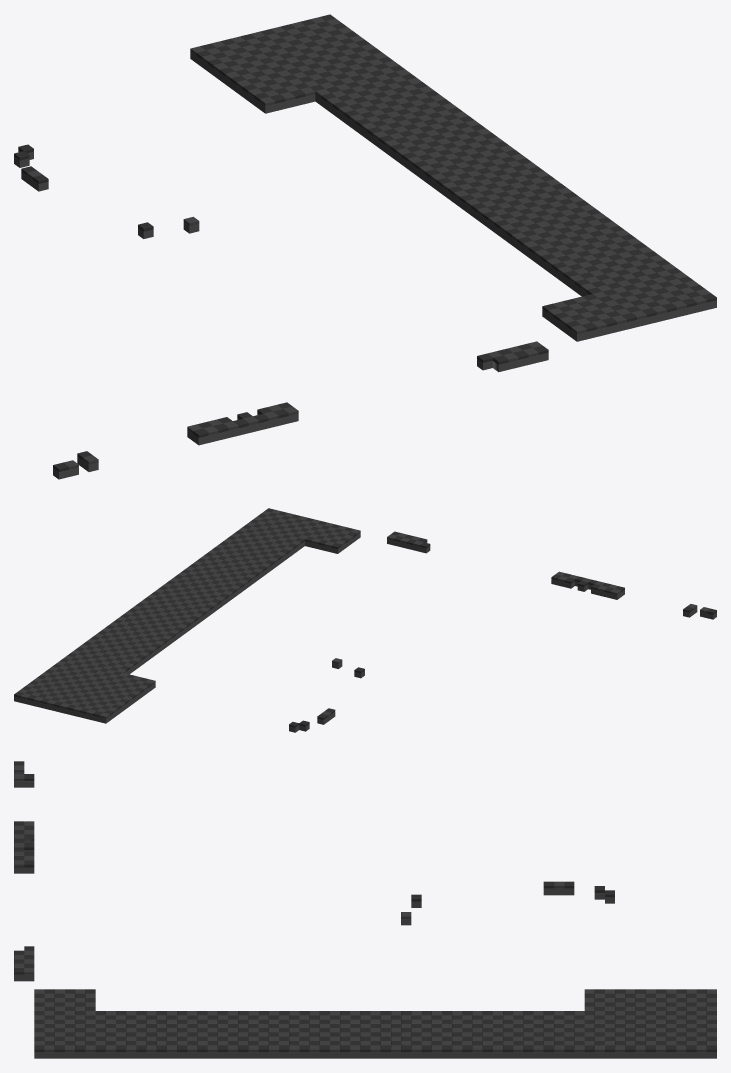
The model's file is Baked Mesh 5.obj.
The picture shows the model from 3 angles, top to bottom: view 1: azimuth 30°, elevation 25°; view 2: azimuth 150°, elevation 25°; view 3: azimuth 270°, elevation 25°; orthographic projection. The views are drawn at different scales.
Parts seen in each view (by area): view 1: Baked Mesh 5; view 2: Baked Mesh 5; view 3: Baked Mesh 5.
Boxes of the visible parts, x1,y1,x2,y2 form: Baked Mesh 5: [14, 14, 716, 479]; Baked Mesh 5: [14, 508, 716, 732]; Baked Mesh 5: [14, 761, 716, 1058].
Bounding box in the file's own units: 134 × 2 × 138.
Materials: 1 (1 with a texture image).
